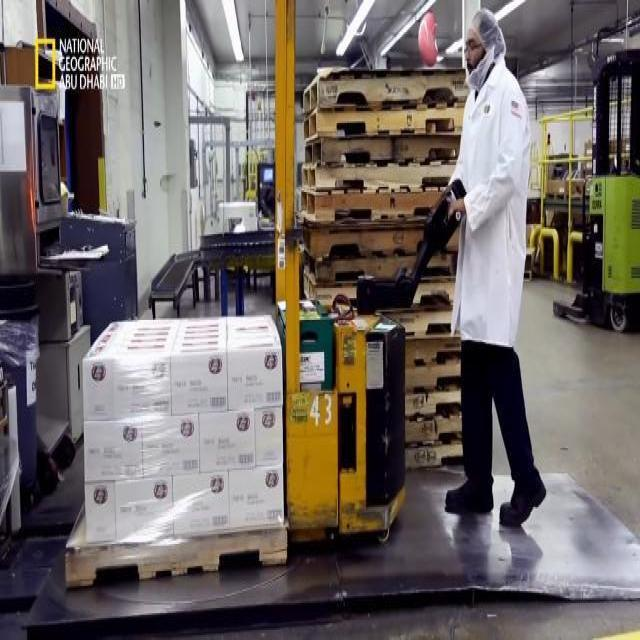bare_hand: (444, 190, 472, 229)
